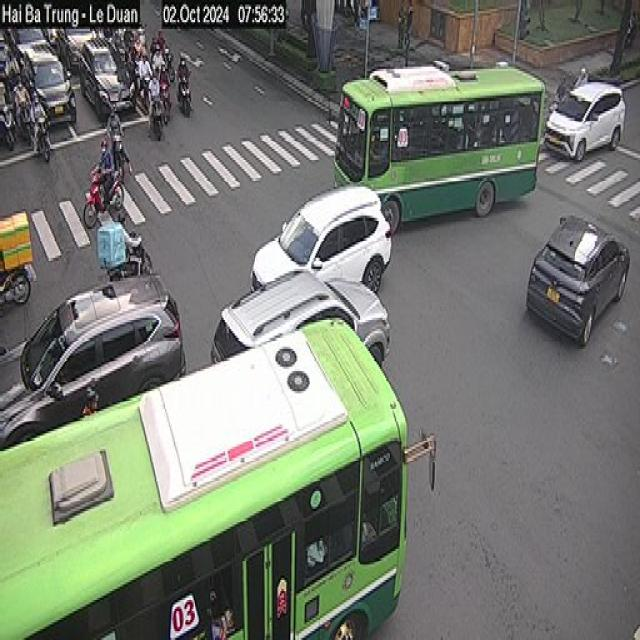bus: (0, 316, 436, 636), (333, 58, 545, 233)
car: (210, 269, 390, 369), (250, 182, 392, 294), (526, 213, 630, 347), (544, 80, 625, 162)
motorcycle: (82, 162, 124, 227)
